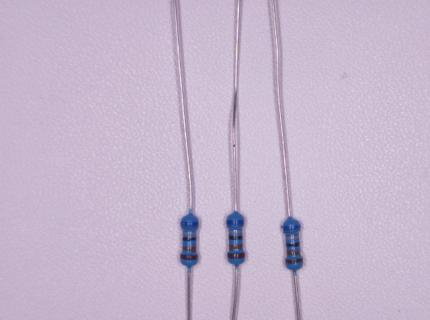Black band: (228, 236, 243, 241), (182, 237, 196, 242), (286, 243, 300, 248)
Blue band: (180, 221, 198, 228), (282, 225, 301, 231), (226, 220, 245, 226)
Brown band: (180, 254, 198, 261), (227, 253, 245, 260), (285, 258, 303, 265)
Grey band: (285, 235, 299, 240), (229, 229, 243, 234), (183, 231, 196, 236)
Orange band: (182, 246, 197, 253), (228, 244, 244, 250), (286, 251, 300, 256)
